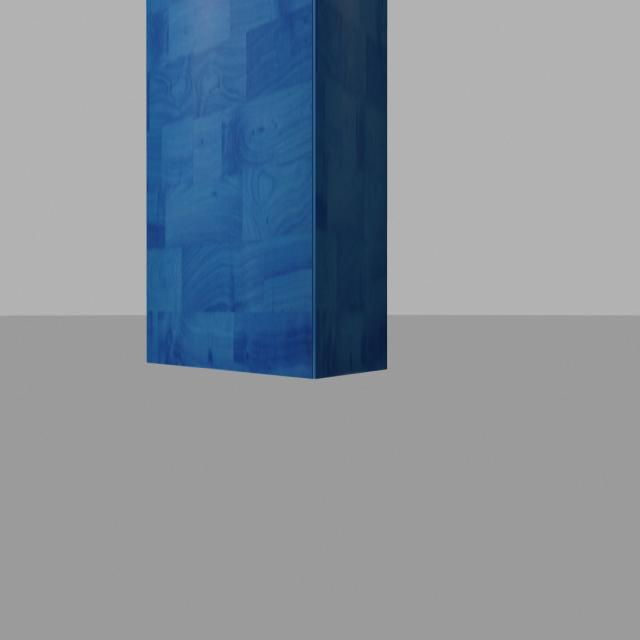shelf: (134, 0, 412, 400)
